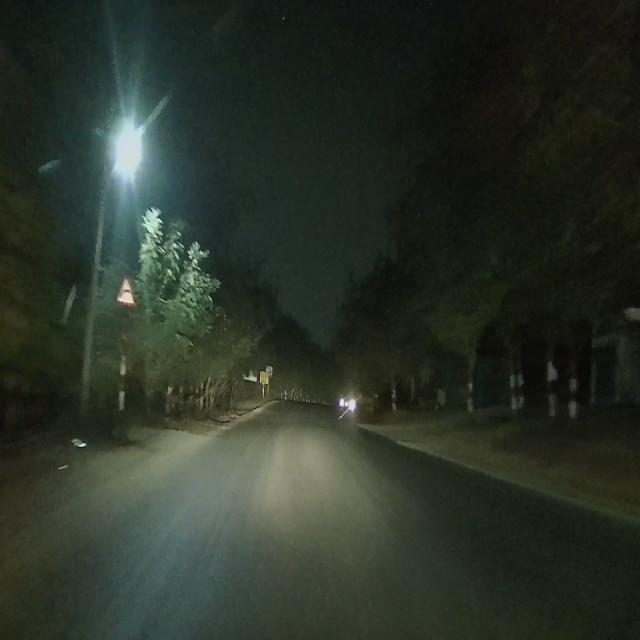right-hand-curve: (118, 275, 134, 303)
